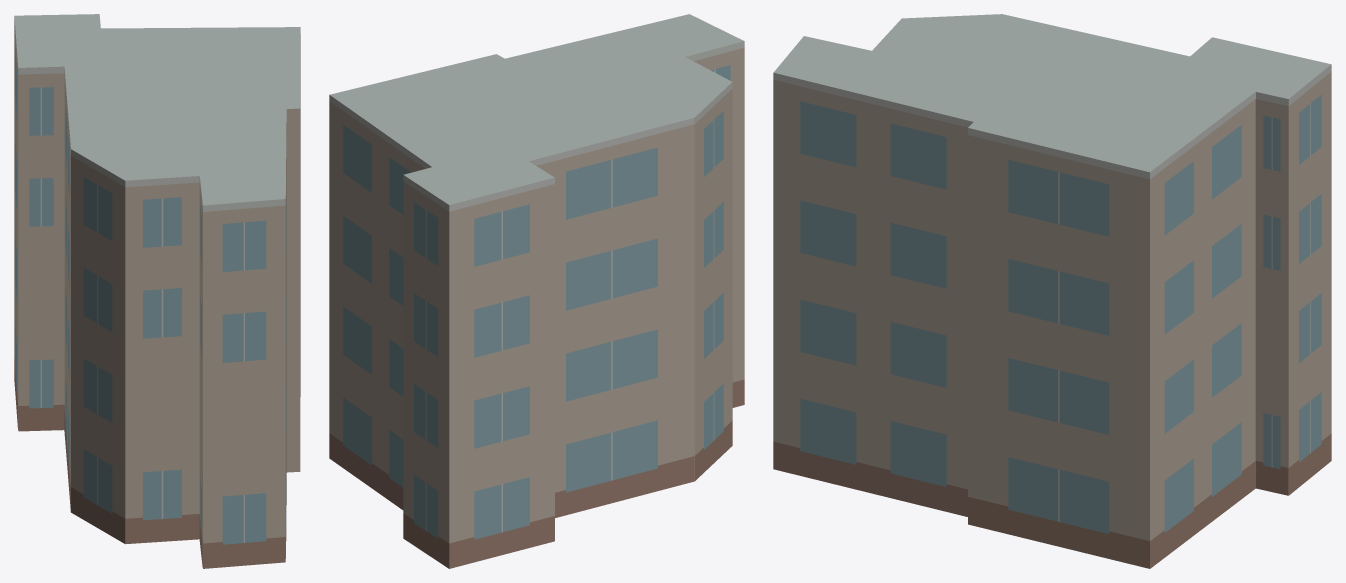
Rendered from survey-upis-32464275.glb.
3 views of the same model, side by side, from view 1: azimuth 30°, elevation 25°; view 2: azimuth 150°, elevation 25°; view 3: azimuth 270°, elevation 25° (orthographic). The views are drawn at different scales.
Parts seen in each view (by area): view 1: survey-upis-32464275.tmp; view 2: survey-upis-32464275.tmp; view 3: survey-upis-32464275.tmp.
Part boxes in pixels (x1,y1,x2,y2): survey-upis-32464275.tmp: (14,14,300,568); survey-upis-32464275.tmp: (329,14,744,568); survey-upis-32464275.tmp: (773,14,1331,568).
Bounding box in the file's own units: 11.69 × 13.65 × 17.42.
